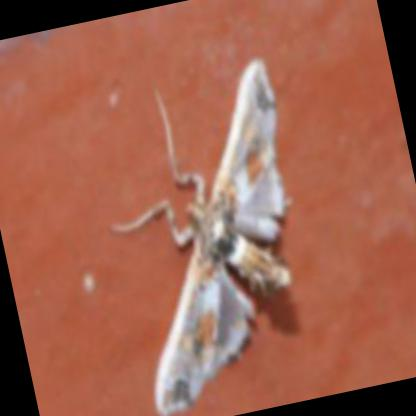leucinodes: (156, 61, 288, 416)
